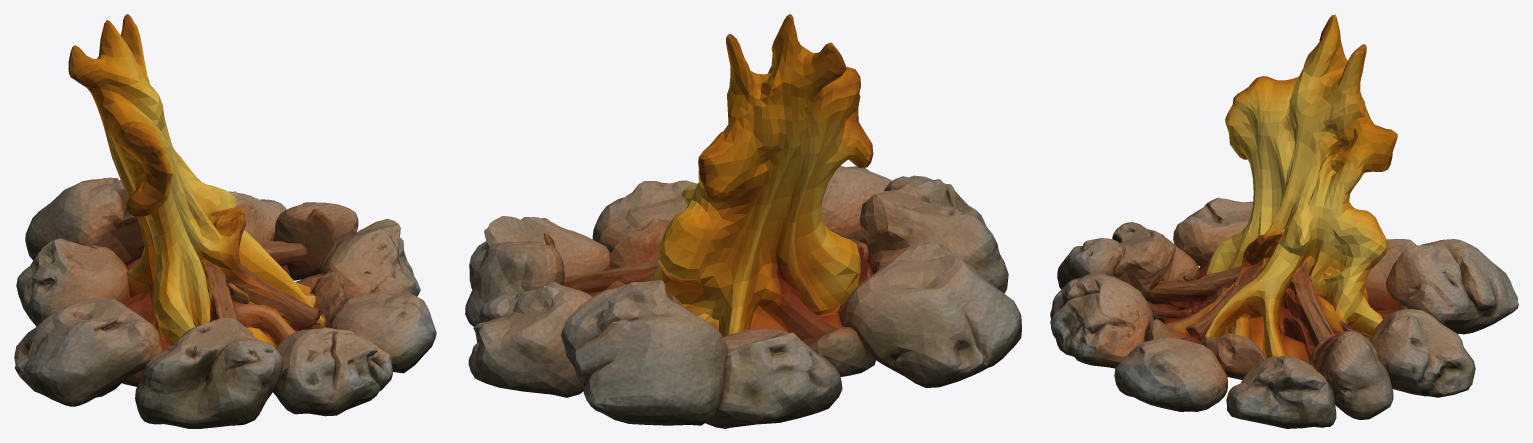
File: Fogata.glb
The picture shows the model from 3 angles, left to right: view 1: azimuth 30°, elevation 25°; view 2: azimuth 150°, elevation 25°; view 3: azimuth 270°, elevation 25°; orthographic projection. The views are drawn at different scales.
Parts seen in each view (by area): view 1: tripo_node_c9b4cbe2-1cd6-4d10-abce-bb2469863fe8; view 2: tripo_node_c9b4cbe2-1cd6-4d10-abce-bb2469863fe8; view 3: tripo_node_c9b4cbe2-1cd6-4d10-abce-bb2469863fe8.
Boxes of the visible parts, left/top/right/bottom form: tripo_node_c9b4cbe2-1cd6-4d10-abce-bb2469863fe8: left=14, top=14, right=436, bottom=428; tripo_node_c9b4cbe2-1cd6-4d10-abce-bb2469863fe8: left=465, top=14, right=1021, bottom=428; tripo_node_c9b4cbe2-1cd6-4d10-abce-bb2469863fe8: left=1050, top=14, right=1518, bottom=428.
Bounding box in the file's own units: 0.953 × 0.6927 × 1.
1 material, 1 textured.
